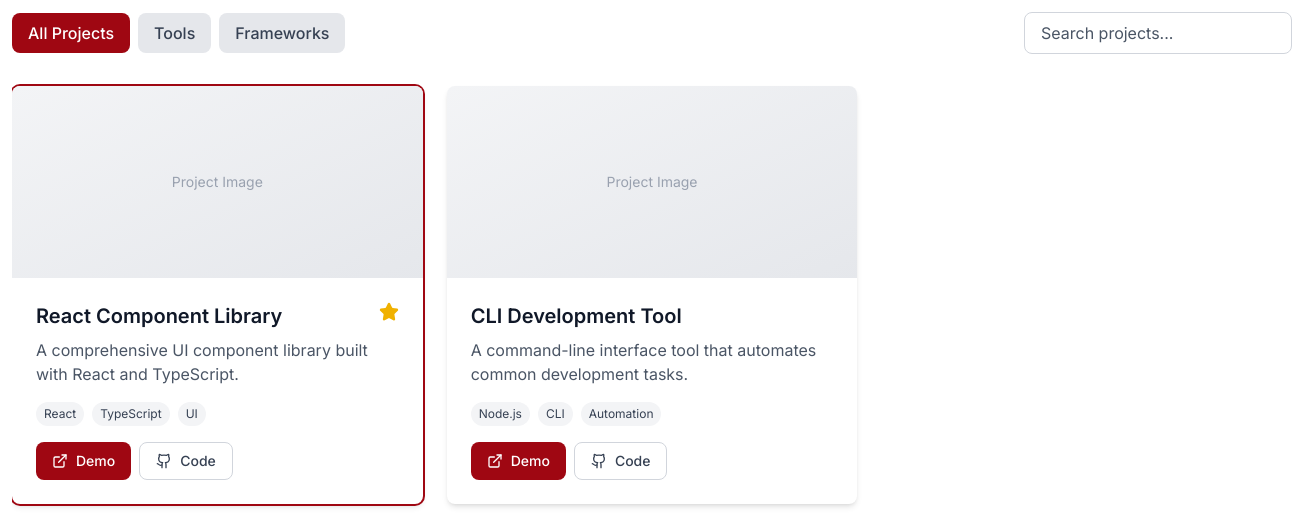
Test case: ShowcaseGrid › filters items by category
Click on Tools filter
Click the button "Tools" at (175, 33), box [138,13,211,53]
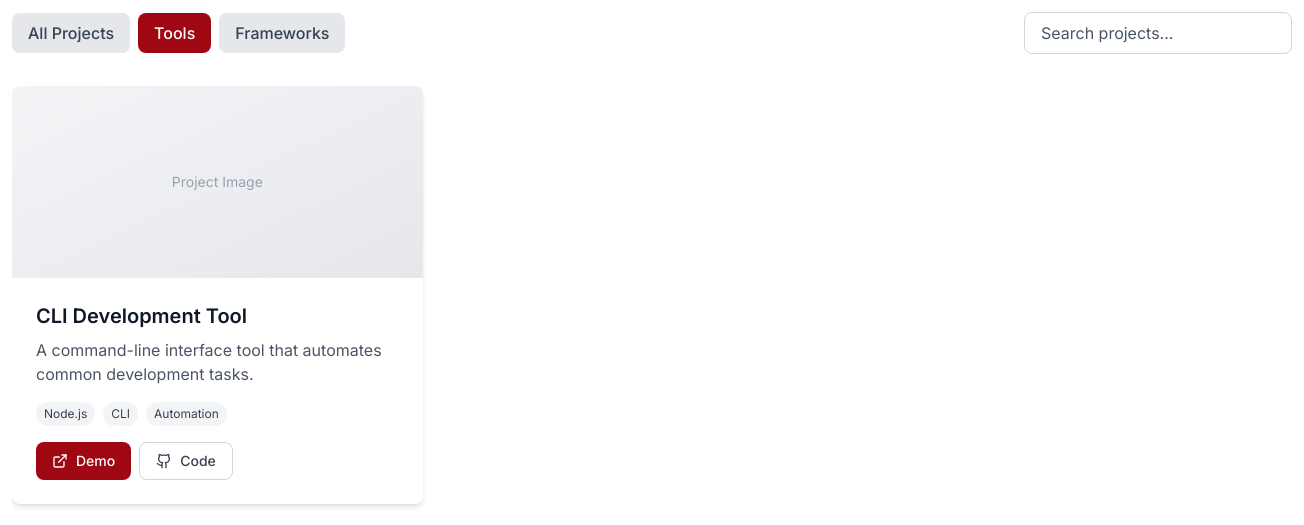
Expected: the heading "CLI Development Tool" is shown, [36,302,247,330]
Expected: the heading "React Component Library" is gone
